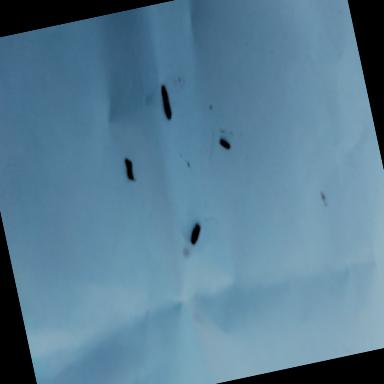pbw: (160, 85, 173, 121), (188, 224, 204, 244), (124, 158, 136, 183), (220, 138, 230, 151)
